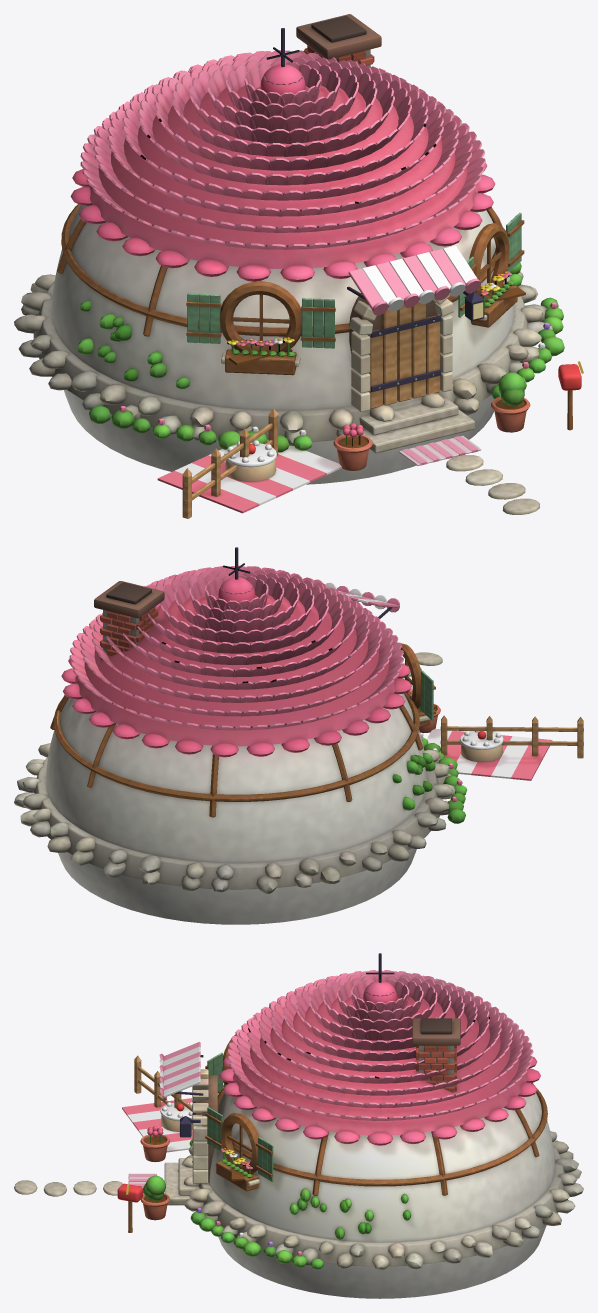
File: house.glb
3 views of the same model, one above another, from view 1: azimuth 30°, elevation 25°; view 2: azimuth 150°, elevation 25°; view 3: azimuth 270°, elevation 25° (orthographic). The views are drawn at different scales.
Parts seen in each view (by area): view 1: cyl; view 2: cyl; view 3: cyl.
Boxes of the visible parts, bbox=[...] form: cyl: bbox=[14, 14, 583, 518]; cyl: bbox=[14, 547, 583, 924]; cyl: bbox=[14, 953, 583, 1298].
Size of the model in its own units: 13.79 by 9.76 by 18.25.
Materials: 1 (1 with a texture image).
